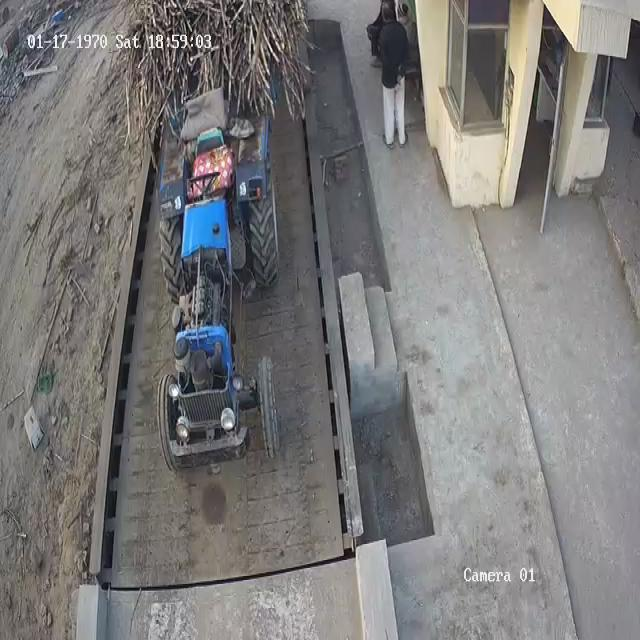Tratores - v5 YOLO V8L 2024-11-13: (154, 106, 285, 472)
